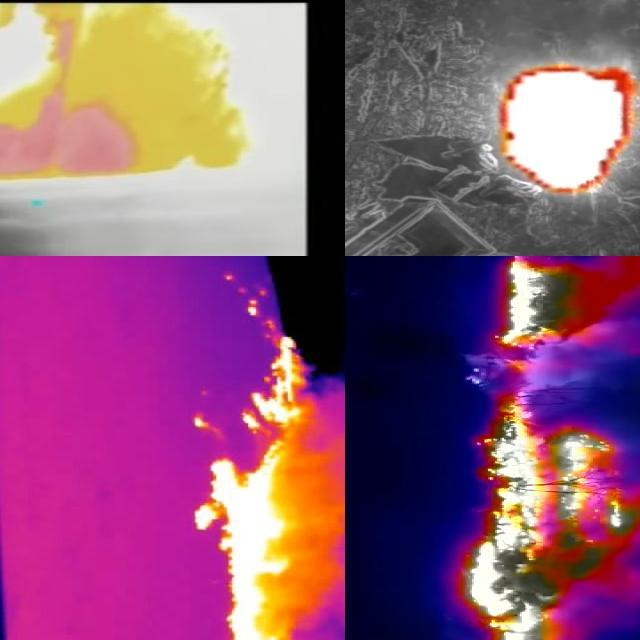fire: (185, 303, 346, 640), (459, 394, 640, 640), (1, 102, 248, 190), (473, 257, 640, 387), (499, 61, 640, 197)
